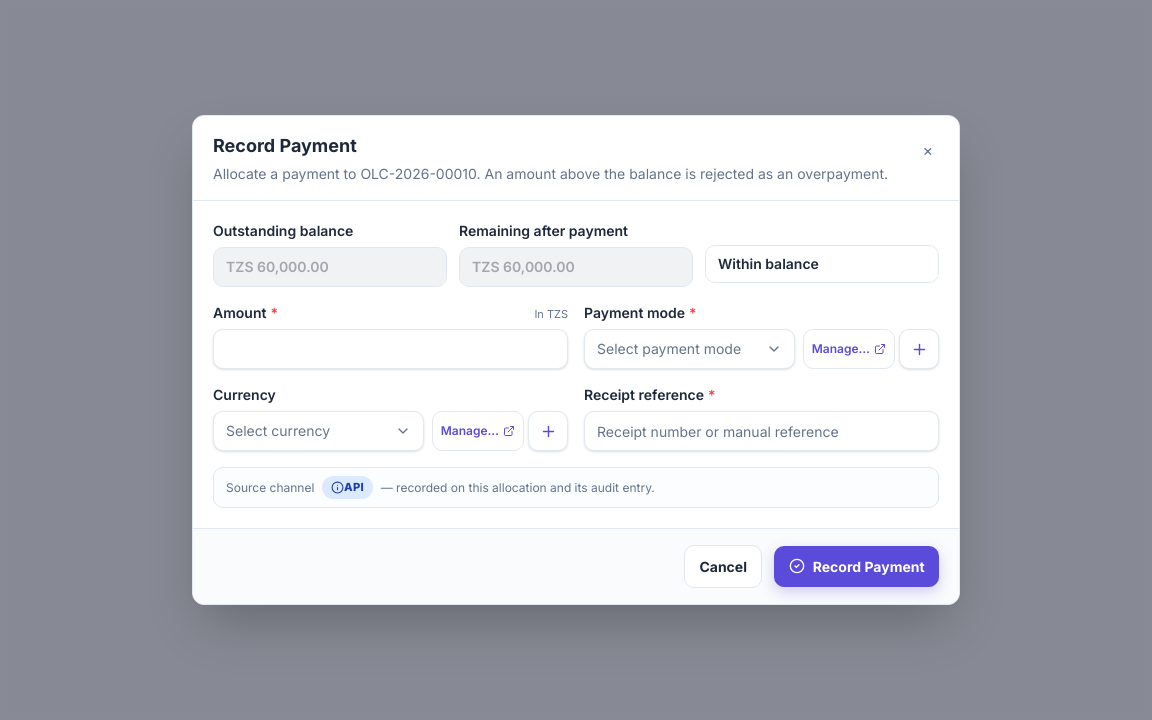
RecordPaymentModal › previews the remaining balance live (60,000 − 25,000 = 35,000)
Type "25000" into the number field labelled "Amount*" at (390, 349), box [213,329,568,369]
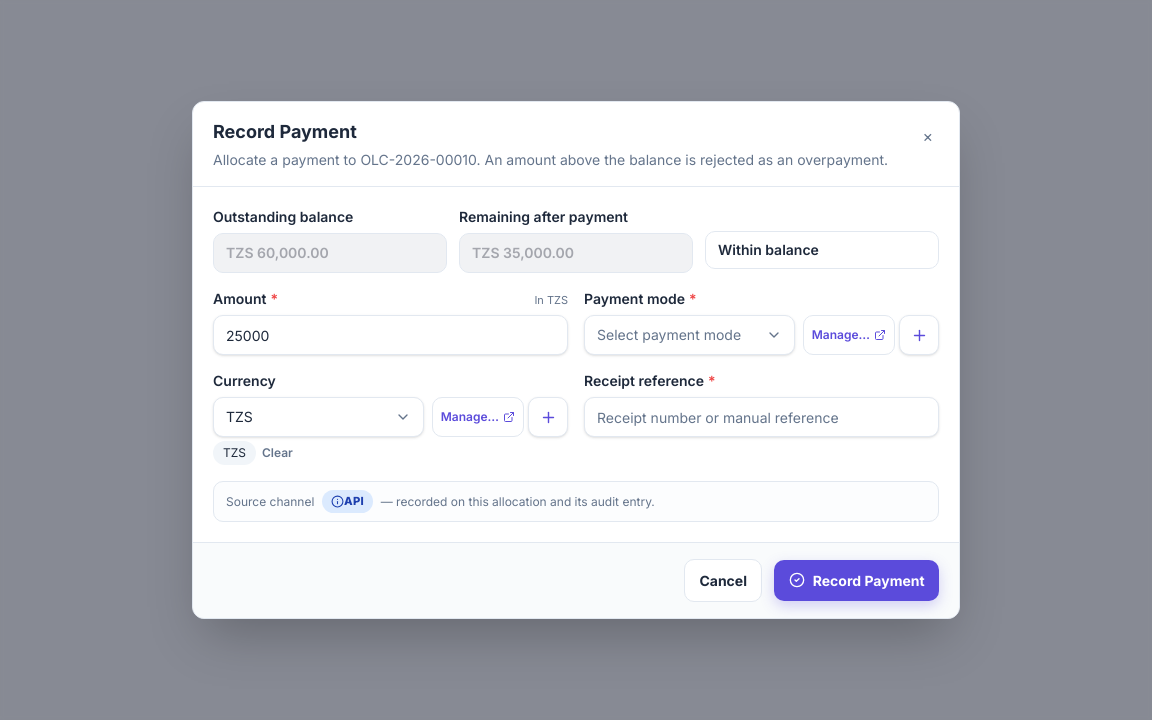
Expected: the text with test id "balance-preview" reads "Within balance", [718,241,819,258]
Expected: the text "TZS 35,000.00" is shown, [459,233,693,273]
